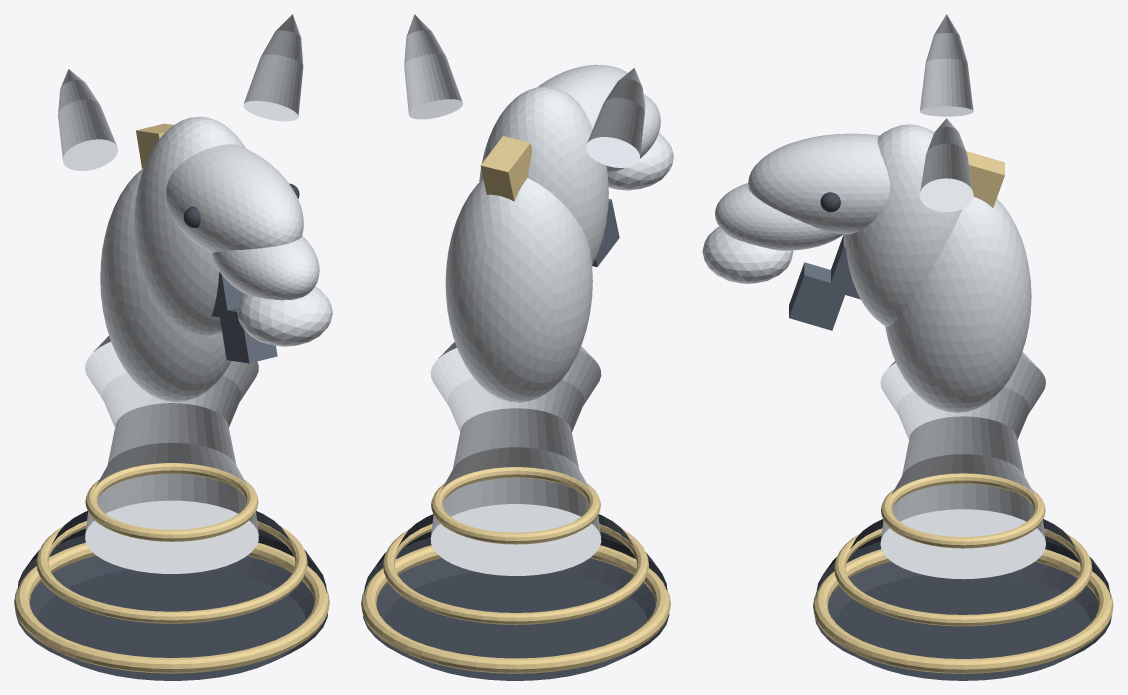
File: knight.glb
3 views of the same model, side by side, from view 1: azimuth 30°, elevation 25°; view 2: azimuth 150°, elevation 25°; view 3: azimuth 270°, elevation 25° (orthographic). The views are drawn at different scales.
Visible parts, largest first — view 1: knight_Polished Platinum, knight_Obsidian Enamel, knight_Champagne Gold, knight_Black Chrome; view 2: knight_Polished Platinum, knight_Obsidian Enamel, knight_Champagne Gold, knight_Black Chrome; view 3: knight_Polished Platinum, knight_Obsidian Enamel, knight_Champagne Gold, knight_Black Chrome.
Boxes of the visible parts, x1,y1,x2,y2 form: knight_Polished Platinum: (58,14,332,573); knight_Obsidian Enamel: (15,183,327,680); knight_Champagne Gold: (14,123,329,673); knight_Black Chrome: (211,271,277,363); knight_Polished Platinum: (404,14,673,575); knight_Obsidian Enamel: (363,514,669,680); knight_Champagne Gold: (361,136,670,673); knight_Black Chrome: (592,199,619,267); knight_Polished Platinum: (702,14,1045,579); knight_Obsidian Enamel: (814,192,1111,680); knight_Champagne Gold: (813,151,1113,673); knight_Black Chrome: (789,235,860,330).
Bounding box in the file's own units: 0.726 × 1.49 × 0.993.
